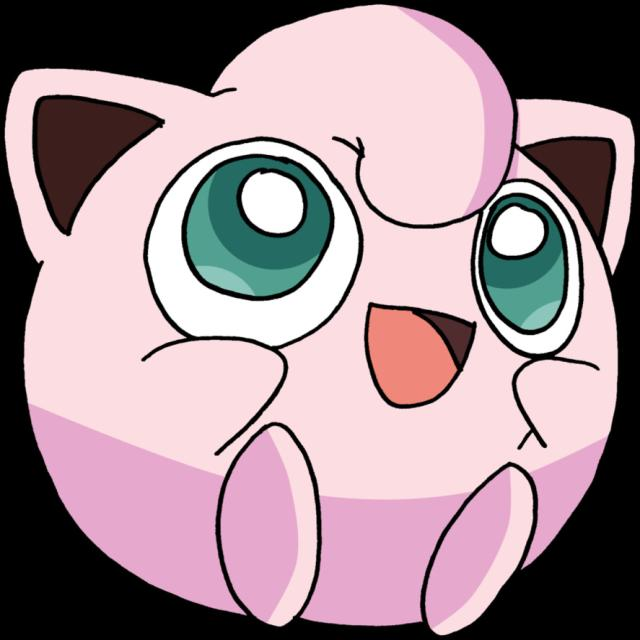Jigglypuff: (6, 9, 640, 636)
